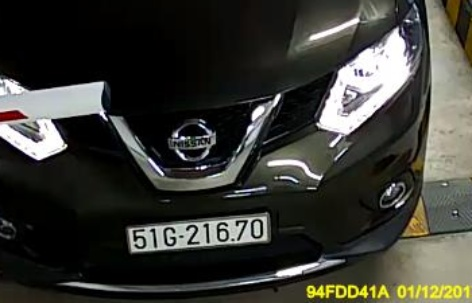plate: (120, 208, 270, 256)
